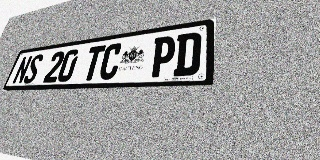0: (56, 49, 80, 82)
2: (43, 51, 66, 83)
C: (97, 42, 124, 80)
D: (173, 31, 202, 76)
N: (11, 55, 33, 84)
P: (149, 35, 177, 78)
S: (22, 54, 44, 84)
T: (81, 45, 106, 81)
